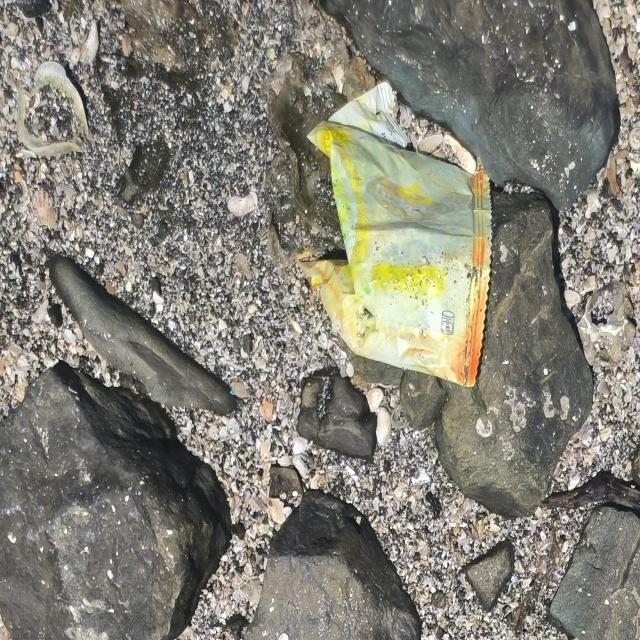plastic_waste: (294, 80, 492, 390)
